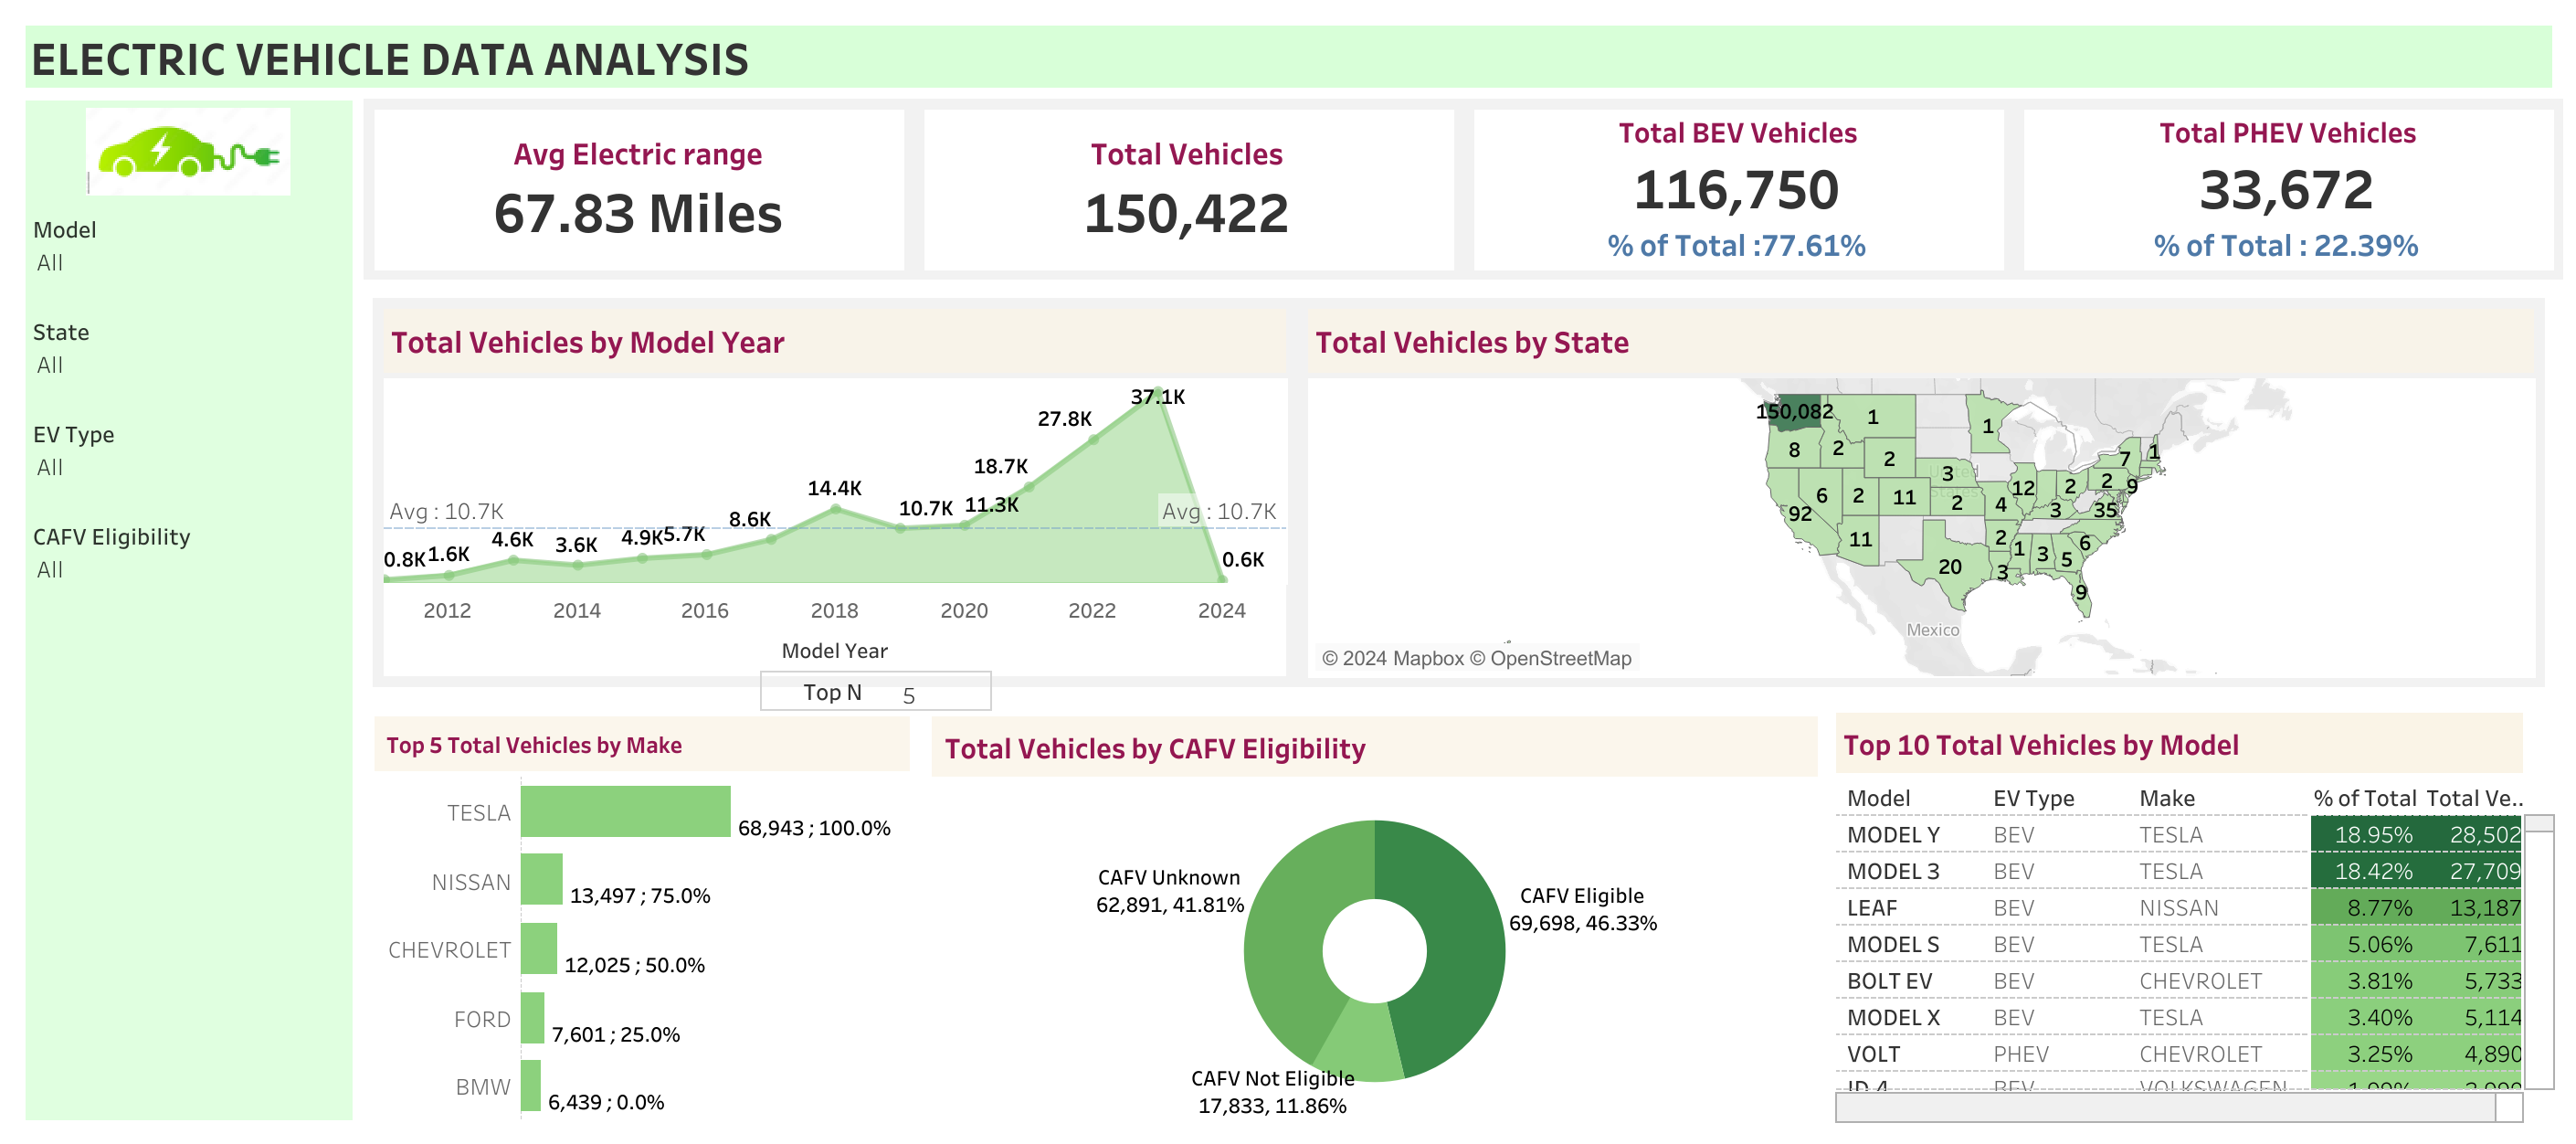

Layout of this report page (visuals, bound fields, positions):
{"tool":"tableau","page":{"name":"Dashboard 1","canvas":[1000,1000],"units":"permille","ordinal":0},"visuals":[{"type":"title","box":[6.5,11.9,987,73.8]},{"type":"worksheet","title":"Average Electric Range","mark":"Automatic","box":[141.6,85.1,213.2,147.8]},{"type":"worksheet","title":"Total Vehicles","mark":"Automatic","box":[354.8,85.1,213.2,147.8]},{"type":"worksheet","title":"Total BEV Vehicles and % of Total BEV Vehicles","mark":"Automatic","box":[567.9,85.1,213.2,147.8]},{"type":"worksheet","title":"Total PHEV Vehicles and % of Total PHEV Vehicles","mark":"Automatic","box":[781.1,85.1,212.4,147.8]},{"type":"image","param":"Image/1000_F_429809908_5zR1BkTvHMoeJ56emg9oqM6CZIByGZMC.jpg","box":[11.4,86.6,125.3,89.5]},{"type":"filter","title":"Total Vehicles by State","param":"[federated.0b06cy90zx05wb19zgz0y1tfp6hn].[none:Model:nk]","box":[11.4,176.1,125.3,89.5]},{"type":"worksheet","title":"Total Vehicles by Model Year","mark":"Area","rows":["Calculation_121386145176305664","Calculation_121386145176305664"],"cols":["Model Year"],"box":[145.6,247.8,411.7,347.8]},{"type":"worksheet","title":"Total Vehicles by State","mark":"Multipolygon","box":[557.4,247.8,428,347.8]},{"type":"filter","title":"Total Vehicles by State","param":"[federated.0b06cy90zx05wb19zgz0y1tfp6hn].[none:State:nk]","box":[11.4,265.7,125.3,89.5]},{"type":"filter","title":"Total Vehicles by State","param":"[federated.0b06cy90zx05wb19zgz0y1tfp6hn].[none:Electric Vehicle Type:nk]","box":[11.4,355.2,125.3,89.6]},{"type":"filter","title":"Total Vehicles by State","param":"[federated.0b06cy90zx05wb19zgz0y1tfp6hn].[none:Clean Alternative Fuel Vehicle (C","box":[11.4,444.8,125.3,89.5]},{"type":"blank","box":[11.4,534.3,125.3,89.5]},{"type":"parameter","param":"[Parameters].[Parameter 1]","box":[294.6,584.6,90.3,36.5]},{"type":"worksheet","title":"Top 10 Total Vehicles by Make","mark":"Automatic","rows":["Make"],"cols":["Calculation_121386145176305664"],"box":[141.4,610.8,248.2,377.3]},{"type":"worksheet","title":" Total Vehicles by CAFV Eligibility","mark":"Pie","rows":["Calculation_121386146174808072","Calculation_121386146174808072"],"box":[389.6,610.8,276.8,377.3]},{"type":"worksheet","title":"Top 10 Total Vehicles by Model","mark":"Square","rows":["Model","Electric Vehicle Type","Make"],"box":[666.4,610.8,327.1,377.3]},{"type":"blank","box":[11.4,623.9,125.3,89.5]},{"type":"blank","box":[11.4,713.4,125.3,89.6]},{"type":"blank","box":[11.4,803,125.3,88]},{"type":"blank","box":[11.4,891,125.3,88.1]}]}

Visuals, with their boxes on the dashboard's canvas, which has no fixed pixel size, in thousandths of its width and height (x1, y1, x2, y2). These are canvas units, not pixel positions in the 2576x1144 screenshot, which may show the page scaled, cropped or inside an application window:
title: Rect(6, 12, 994, 86)
"Average Electric Range" worksheet: Rect(142, 85, 355, 233)
"Total Vehicles" worksheet: Rect(355, 85, 568, 233)
"Total BEV Vehicles and % of Total BEV Vehicles" worksheet: Rect(568, 85, 781, 233)
"Total PHEV Vehicles and % of Total PHEV Vehicles" worksheet: Rect(781, 85, 994, 233)
image: Rect(11, 87, 137, 176)
"Total Vehicles by State" filter: Rect(11, 176, 137, 266)
"Total Vehicles by Model Year" worksheet (Area marks): Rect(146, 248, 557, 596)
"Total Vehicles by State" worksheet (Multipolygon marks): Rect(557, 248, 985, 596)
"Total Vehicles by State" filter: Rect(11, 266, 137, 355)
"Total Vehicles by State" filter: Rect(11, 355, 137, 445)
"Total Vehicles by State" filter: Rect(11, 445, 137, 534)
blank: Rect(11, 534, 137, 624)
parameter: Rect(295, 585, 385, 621)
"Top 10 Total Vehicles by Make" worksheet: Rect(141, 611, 390, 988)
" Total Vehicles by CAFV Eligibility" worksheet (Pie marks): Rect(390, 611, 666, 988)
"Top 10 Total Vehicles by Model" worksheet (Square marks): Rect(666, 611, 994, 988)
blank: Rect(11, 624, 137, 713)
blank: Rect(11, 713, 137, 803)
blank: Rect(11, 803, 137, 891)
blank: Rect(11, 891, 137, 979)
